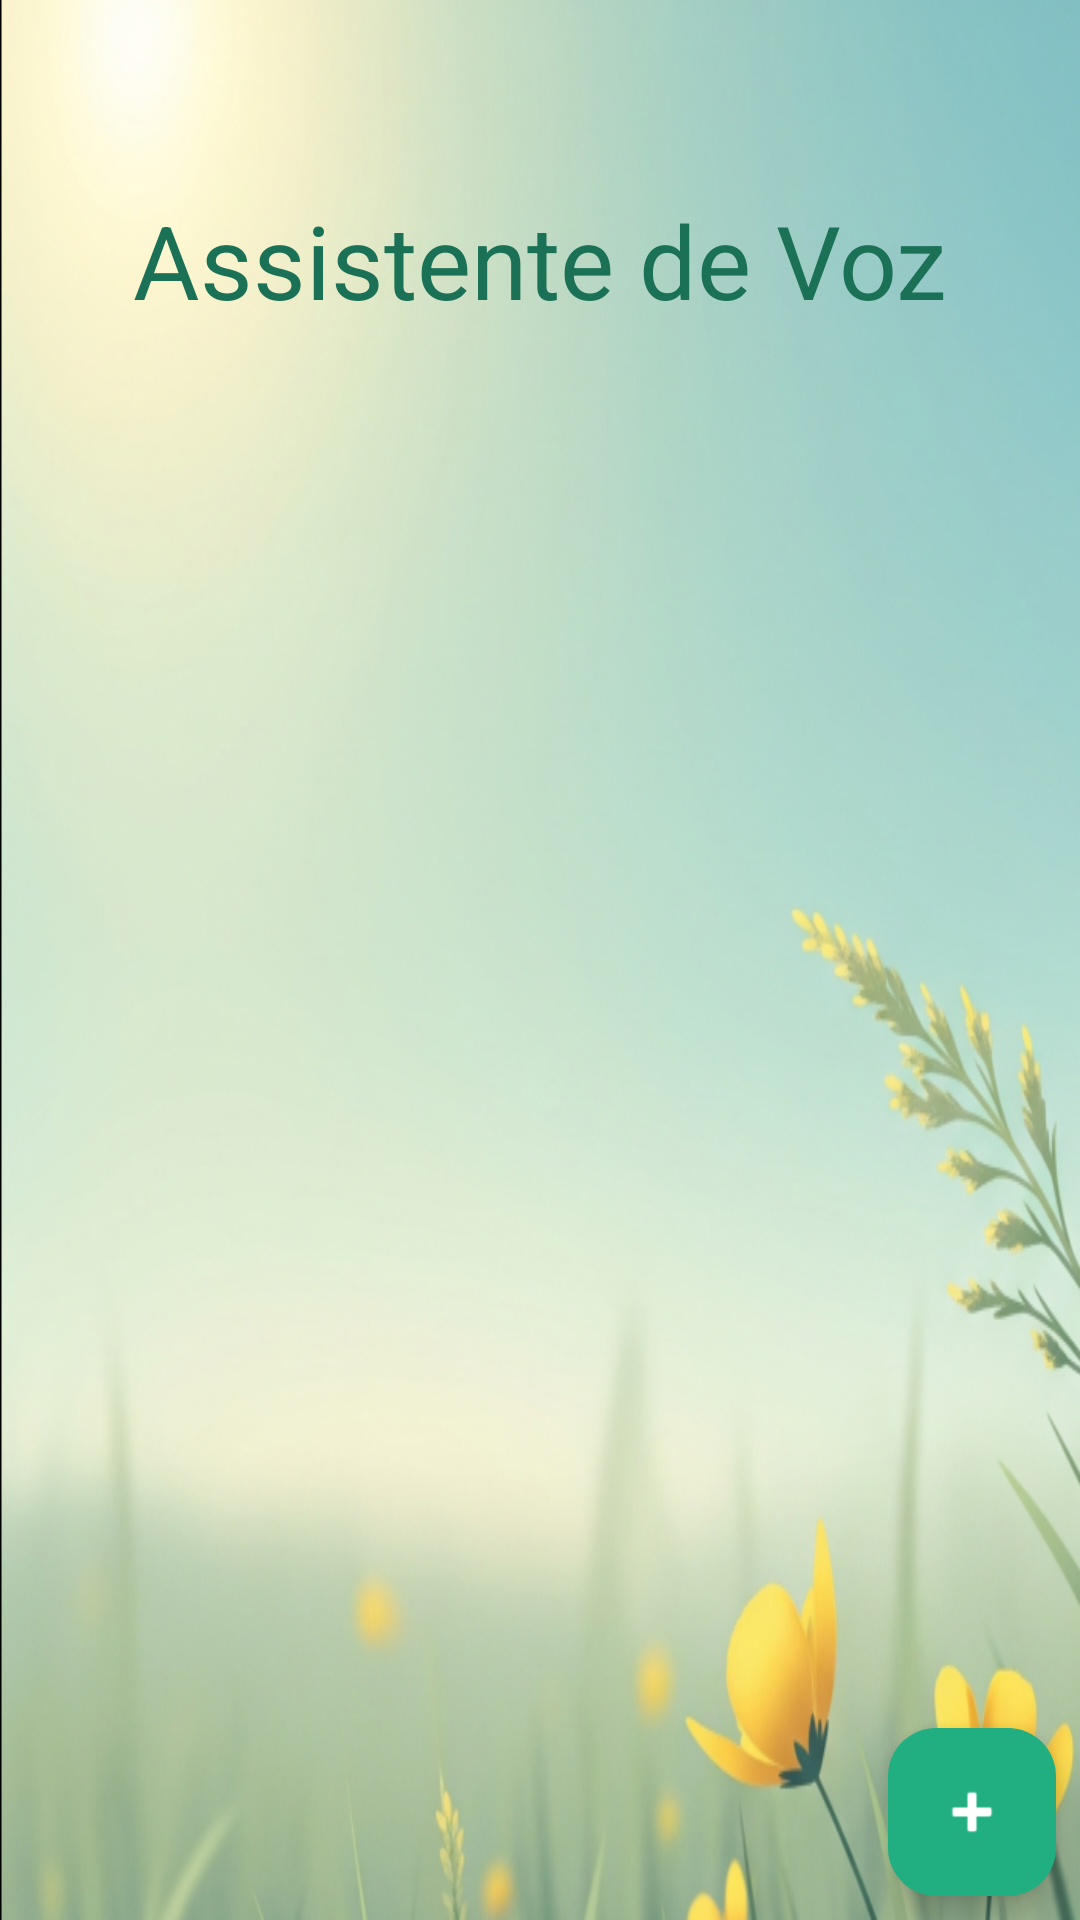

Named icons in this screenshot (1080*1920) and their centers, (x=x, y=y):
Adicionar novo item: (x=972, y=1812)
